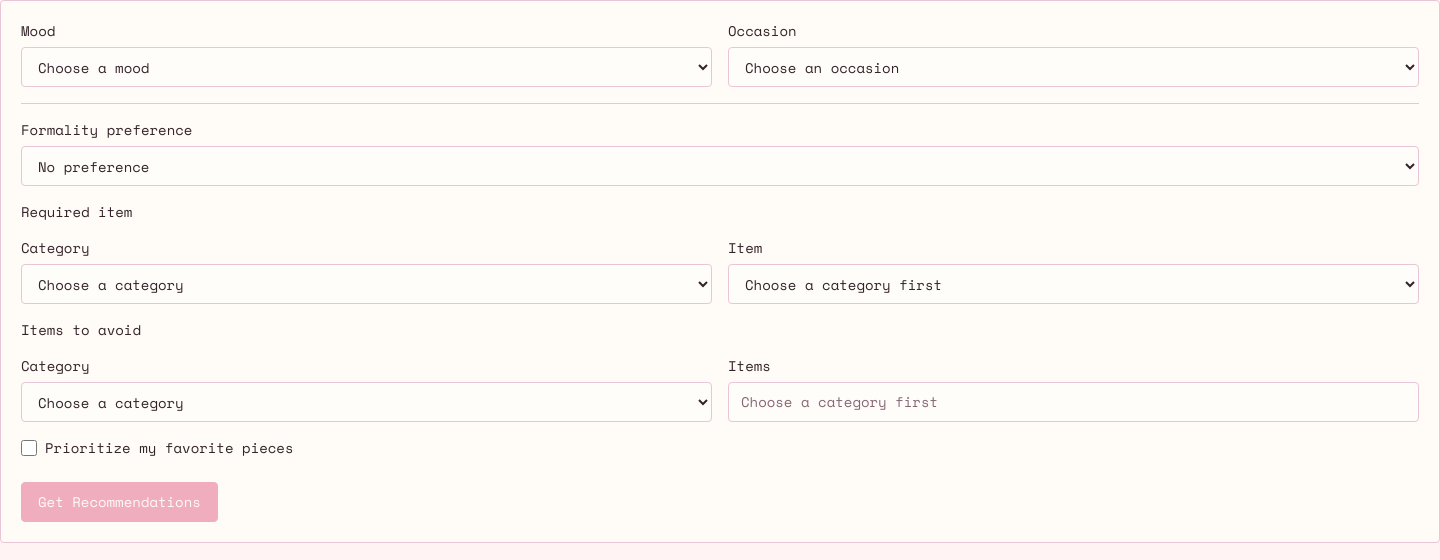
Test case: InspireMeForm › resets both form values and the local category filters when Clear all is clicked
Select "Cozy" in the dropdown labelled "Mood" at (366, 67), box [21,47,712,87]
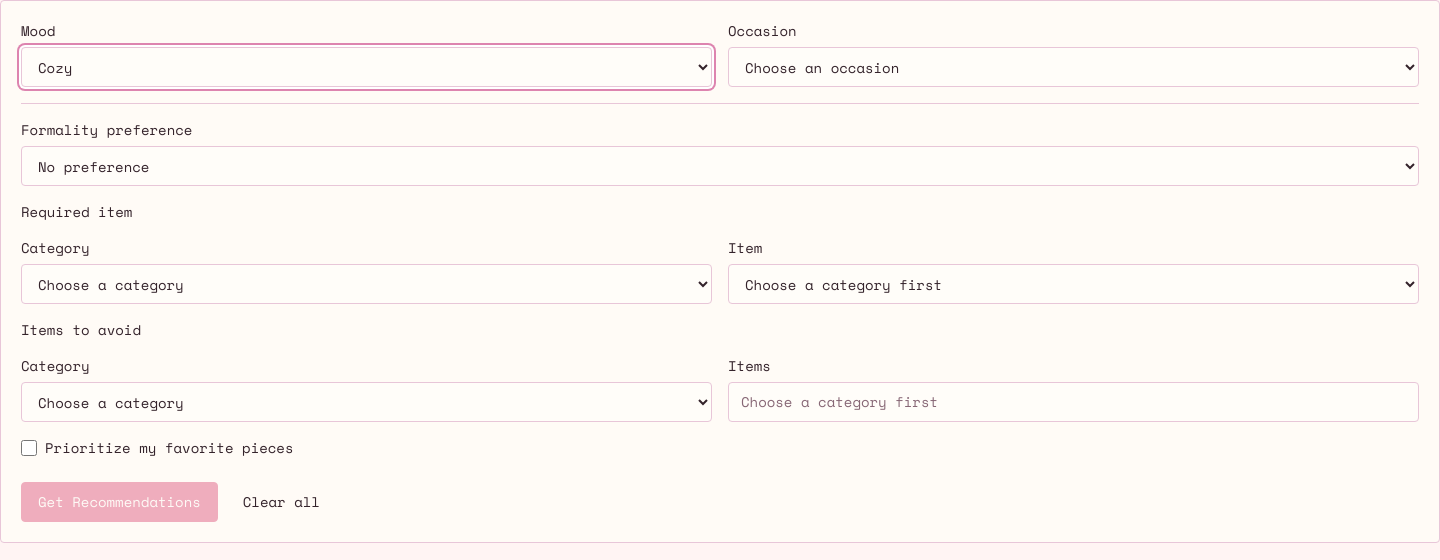
Select "Tops" in the dropdown labelled "Category" below "Required item" at (366, 284), box [21,264,712,304]
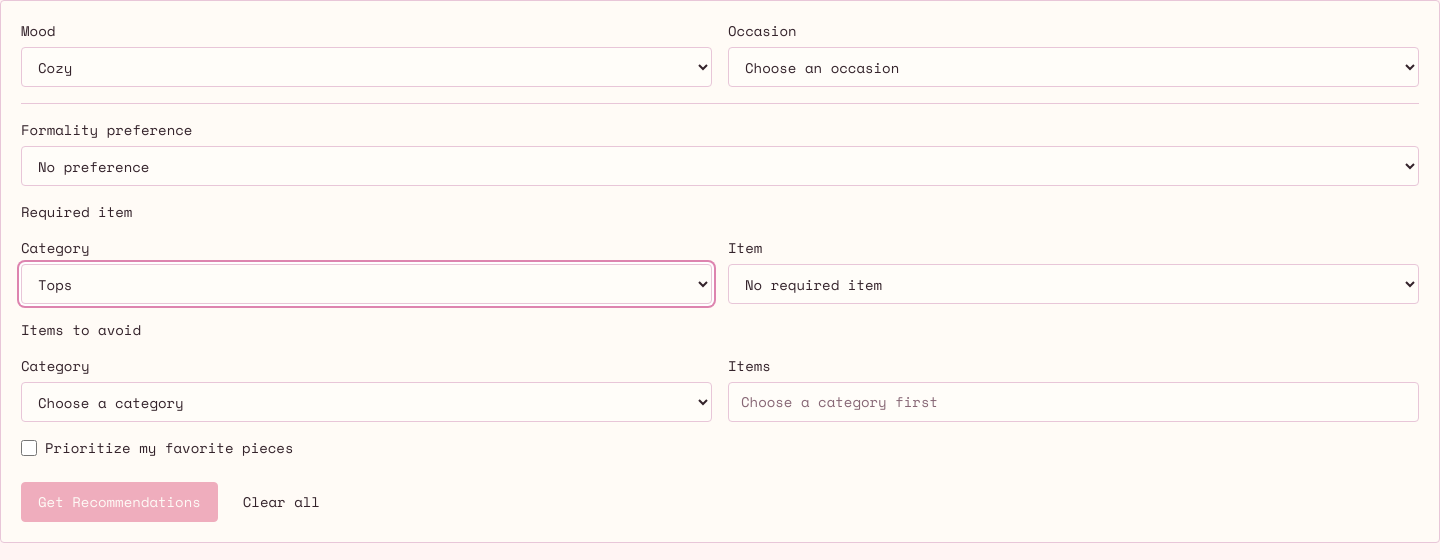
Click the button "Clear all" at (281, 502), box [230,486,333,518]
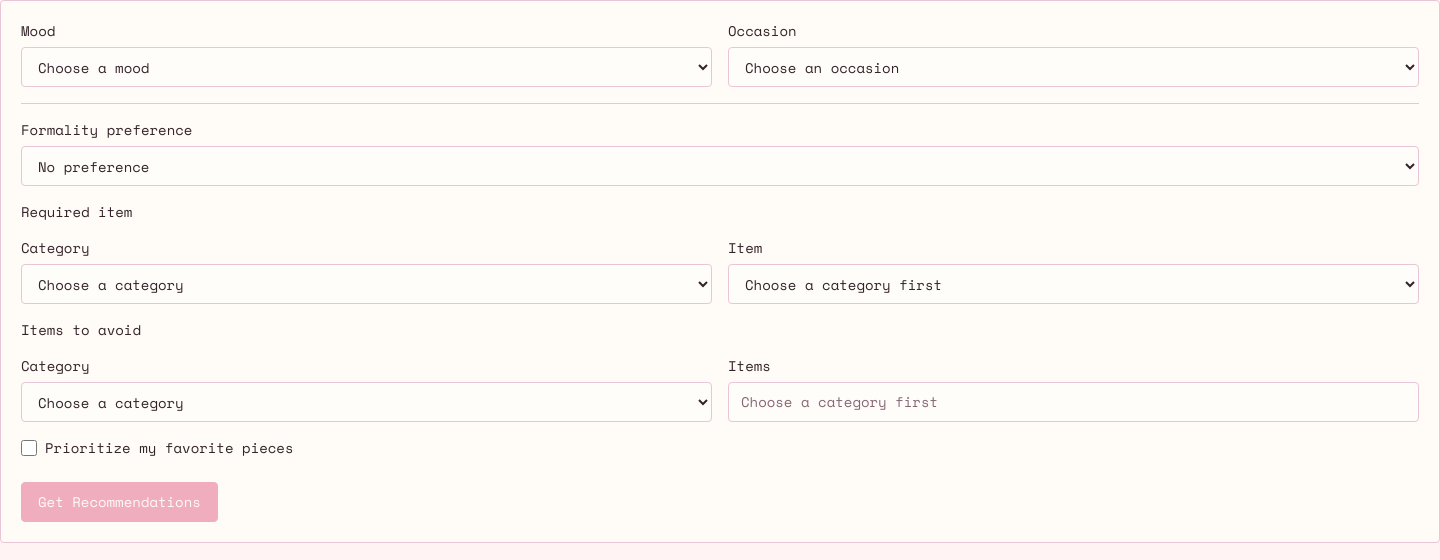
Result: the button "Clear all" is gone
